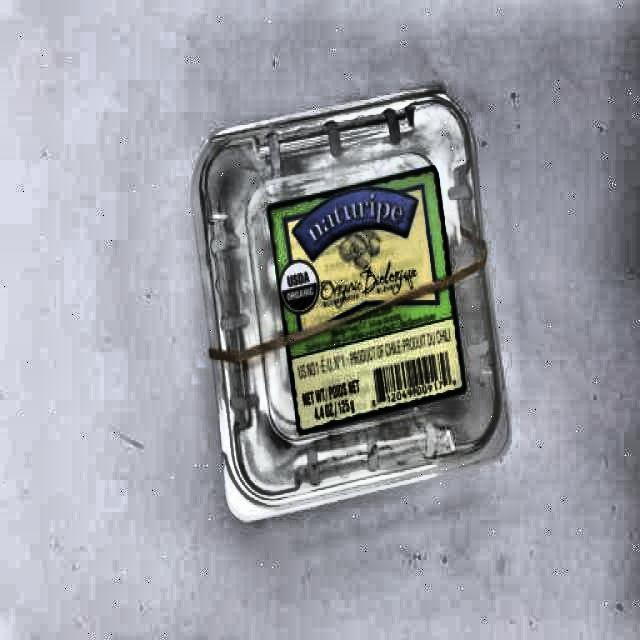plastic: (190, 87, 513, 524)
